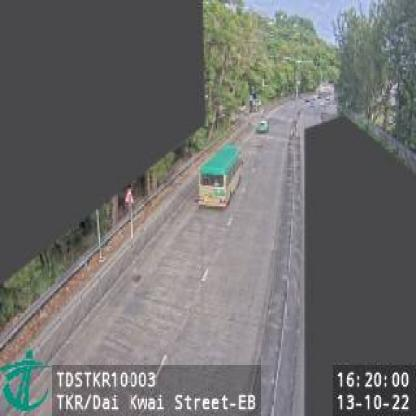Car: (256, 116, 270, 133)
Minibus: (196, 142, 244, 212)
